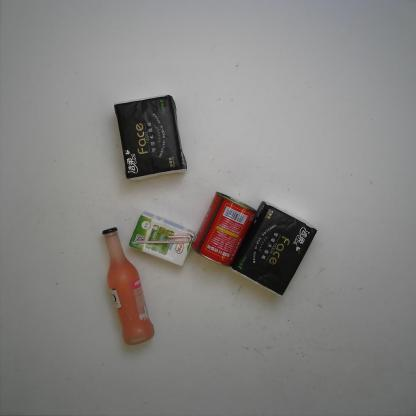Alcohol: (101, 226, 155, 344)
Canned Food: (190, 192, 257, 268)
Milk: (127, 212, 190, 268)
Tissue: (230, 200, 318, 298), (113, 94, 188, 181)
